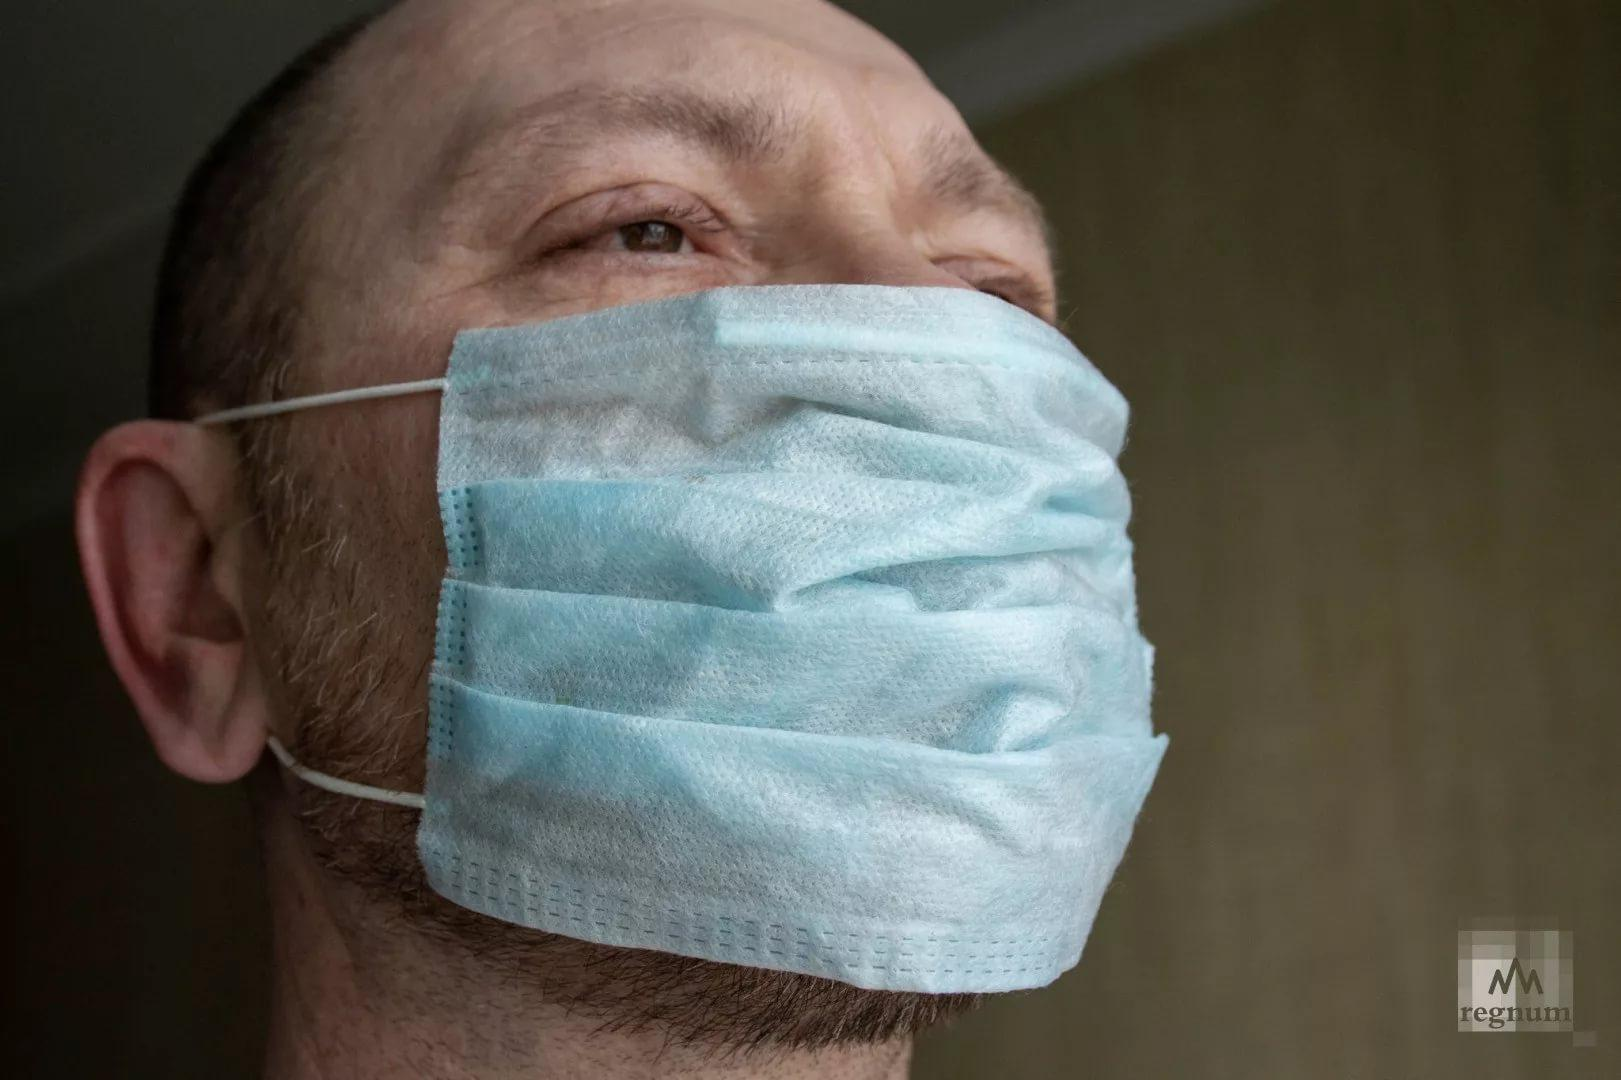mask: (352, 5, 1161, 1000)
